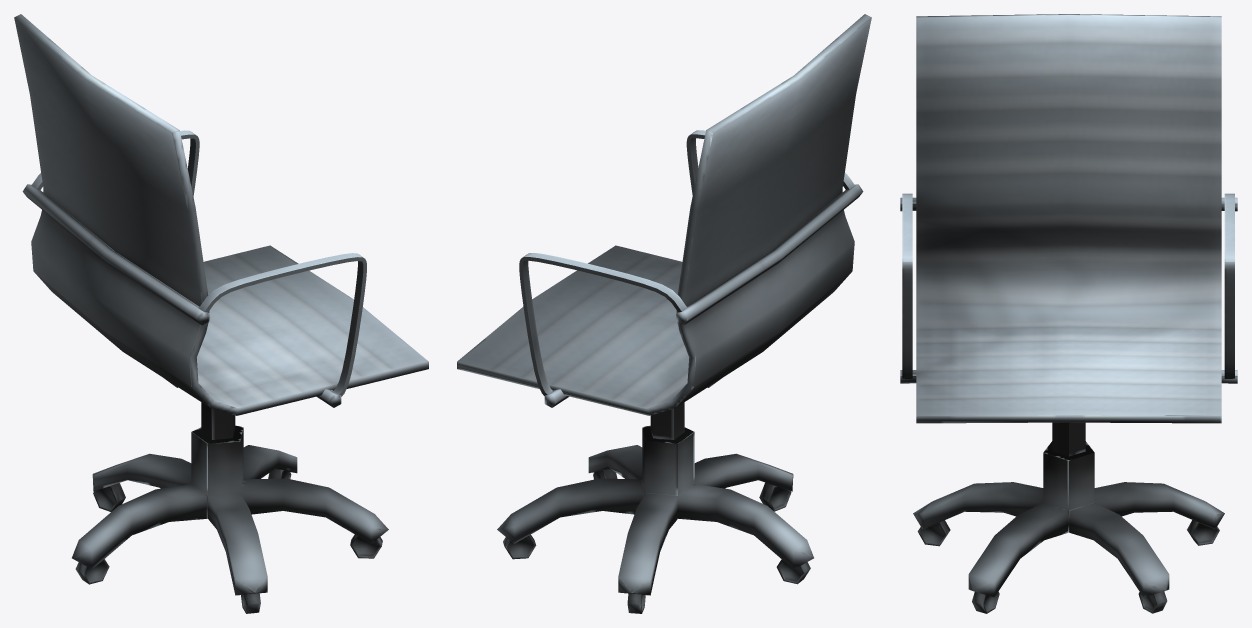
File: ConfChair1.dae
3 views of the same model, side by side, from view 1: azimuth 30°, elevation 25°; view 2: azimuth 150°, elevation 25°; view 3: azimuth 270°, elevation 25° (orthographic). The views are drawn at different scales.
Parts seen in each view (by area): view 1: Seat, Base; view 2: Seat, Base; view 3: Seat, Base.
Part boxes in pixels (x1,y1,x2,y2): Seat: (14,14,428,415); Base: (72,379,388,613); Seat: (457,14,871,415); Base: (497,379,813,613); Seat: (900,14,1237,423); Base: (913,422,1224,613).
Bounding box in the file's own units: 0.6455 × 1.11 × 0.6942.
